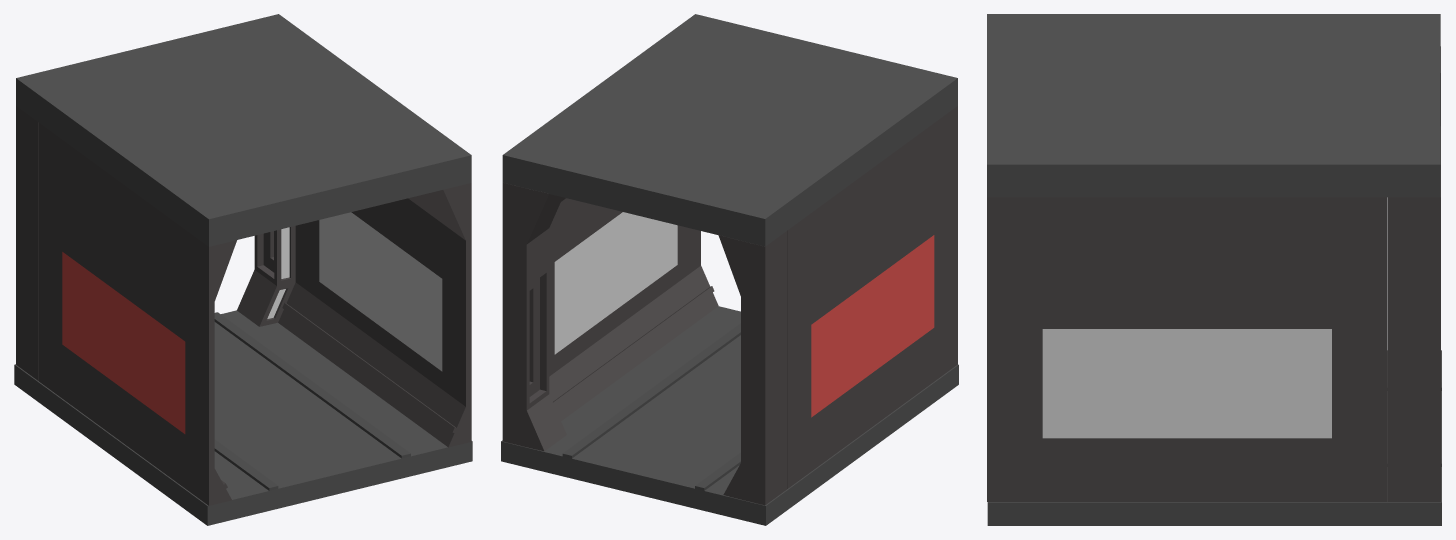
Rendered from Restraunt_Modula_Small.fbx.
3 renders of one model, left to right at view 1: azimuth 30°, elevation 25°; view 2: azimuth 150°, elevation 25°; view 3: azimuth 270°, elevation 25°, orthographic. The views are drawn at different scales.
Visible parts, largest first — view 1: Cube; view 2: Cube; view 3: Cube.
Boxes of the visible parts, x1,y1,x2,y2 form: Cube: (14,14,472,525); Cube: (501,14,958,525); Cube: (987,14,1441,525).
Size of the model in its own units: 2779 by 3070 by 3511.
